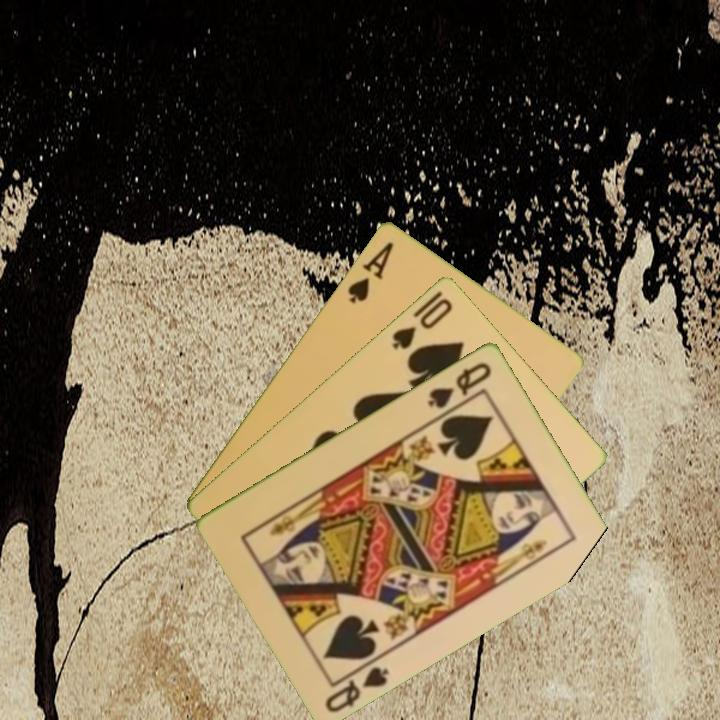10s: (388, 294, 456, 352)
As: (344, 238, 397, 306)
Qs: (321, 662, 393, 715), (424, 358, 495, 411)
